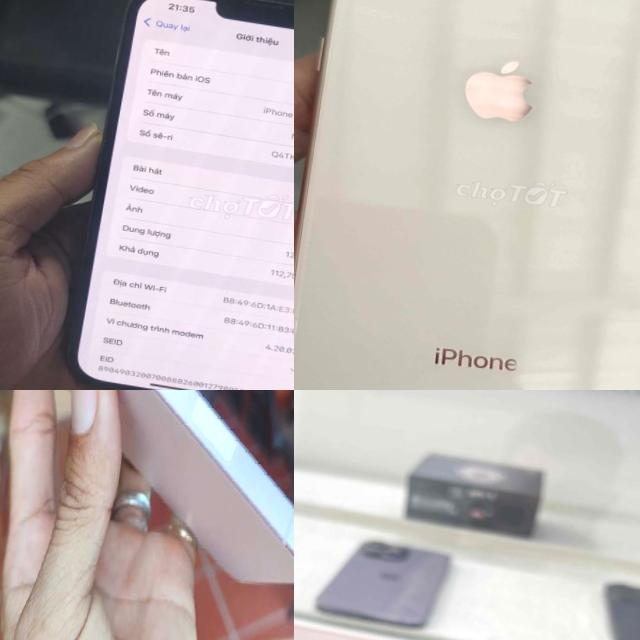gen_12_13: (70, 0, 294, 390)
gen_15: (0, 390, 294, 631)
gen_7_8: (294, 0, 640, 390)
